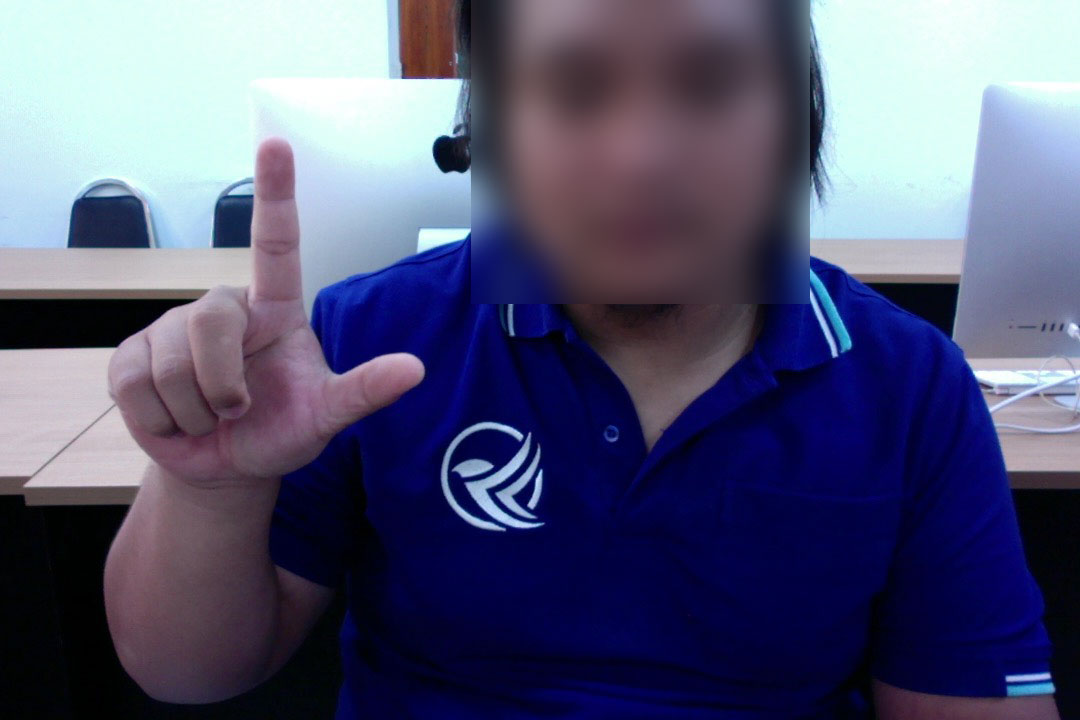lor: (88, 129, 439, 518)
